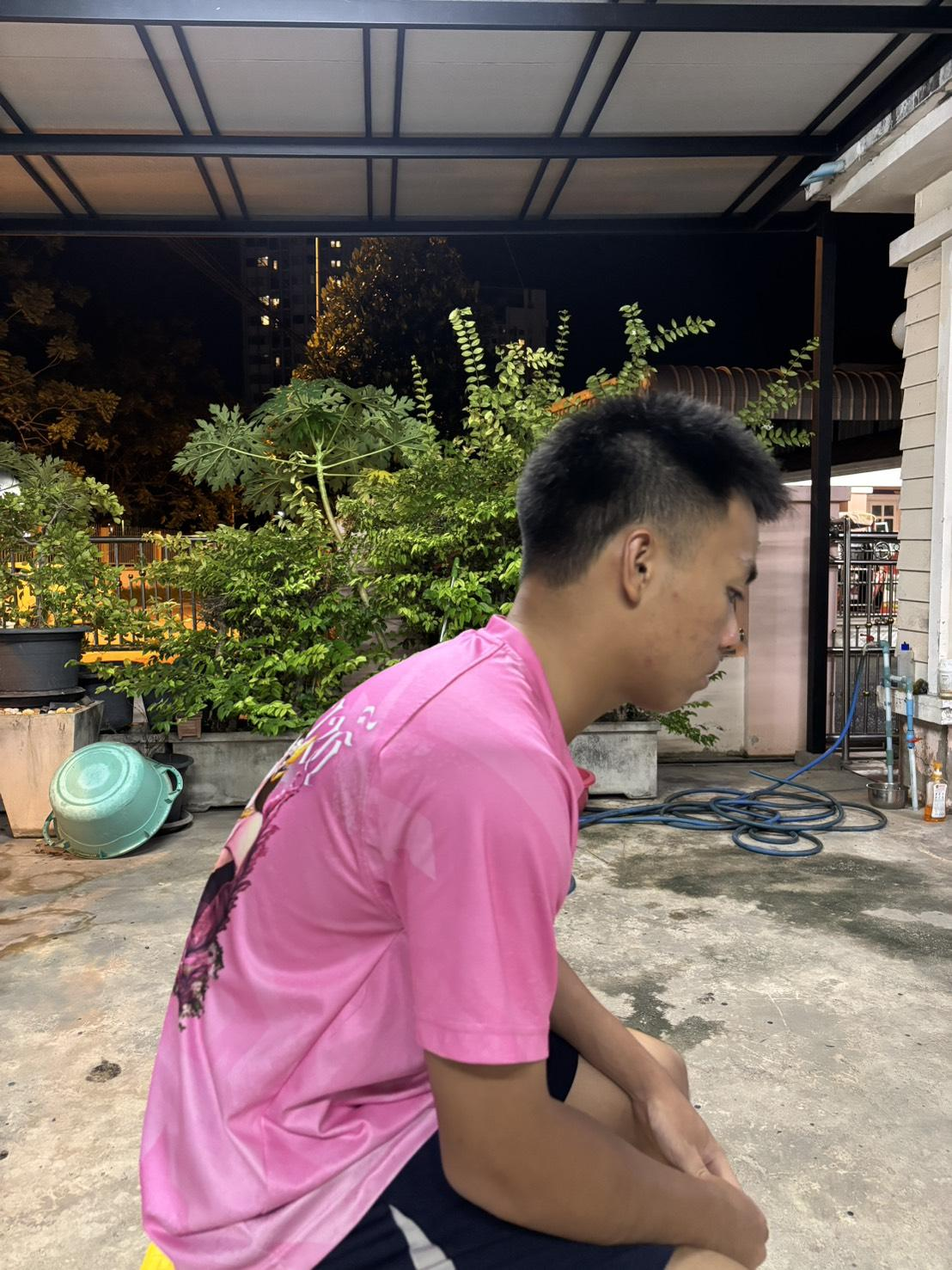BadPosture: (140, 389, 789, 1269)
